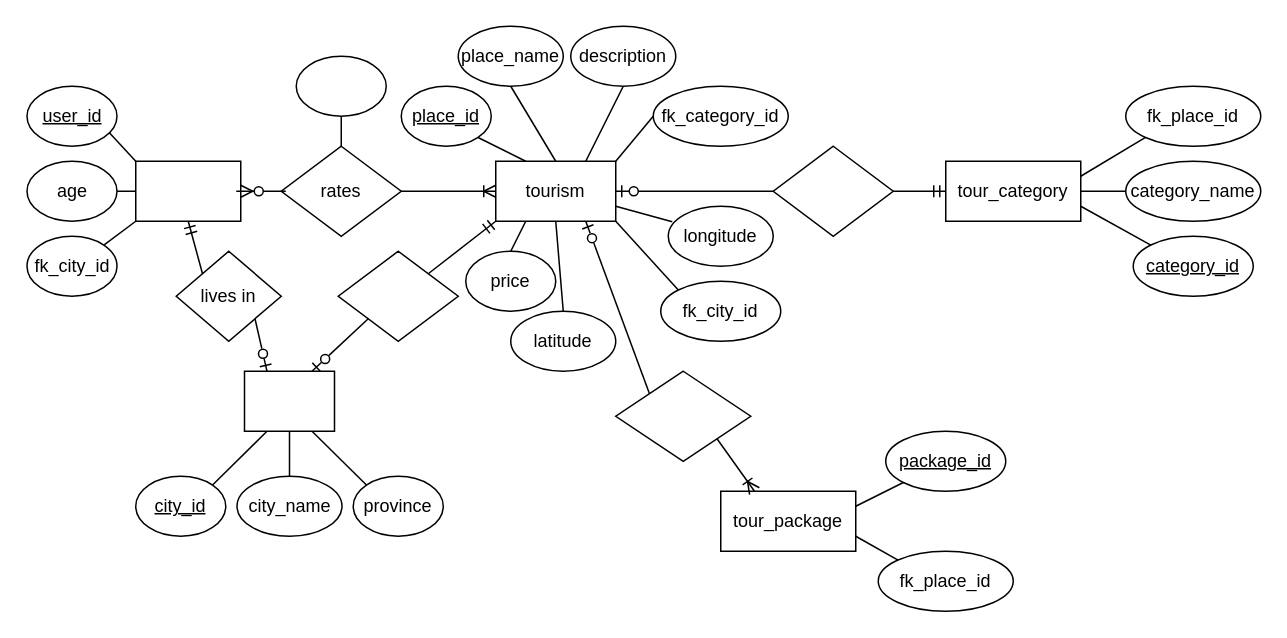
Some shapes in this 1287 by 638 pixel diagram are drawn without their labels. The shapes that lost their labels are listed below. From the top down, each one's centre as x and y in pixels, then its label:
At [340,85]: "rating".
At [187,190]: "user".
At [832,190]: "category in".
At [397,295]: "located in".
At [288,400]: "location".
At [682,415]: "as package".
